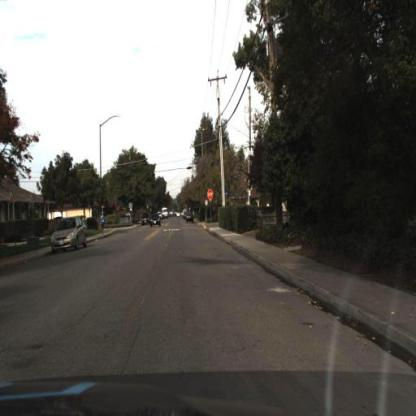car: (49, 214, 87, 256), (148, 212, 162, 233), (185, 210, 197, 226), (140, 213, 150, 229)
pedestrian: (98, 211, 108, 239), (99, 210, 107, 239)
